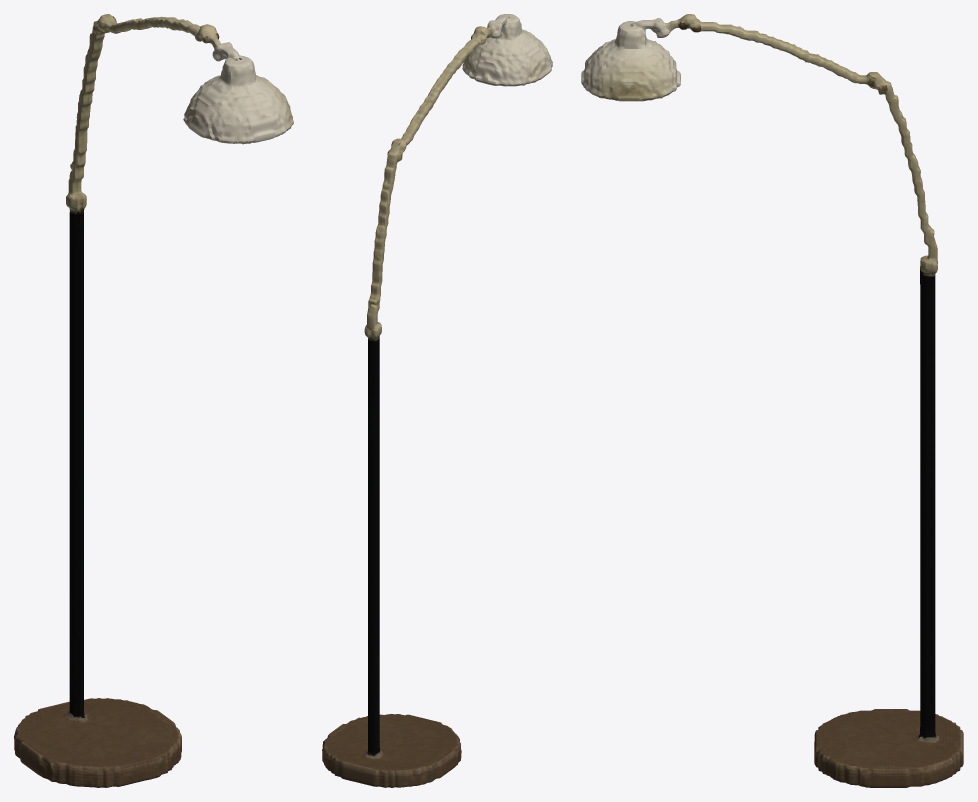
Rendered from room__n27-5.glb.
The picture shows the model from 3 angles, left to right: view 1: azimuth 30°, elevation 25°; view 2: azimuth 150°, elevation 25°; view 3: azimuth 270°, elevation 25°; orthographic projection. The views are drawn at different scales.
Size of the model in its own units: 0.1768 by 0.9907 by 0.4622.
Materials: 1 (1 with a texture image).
